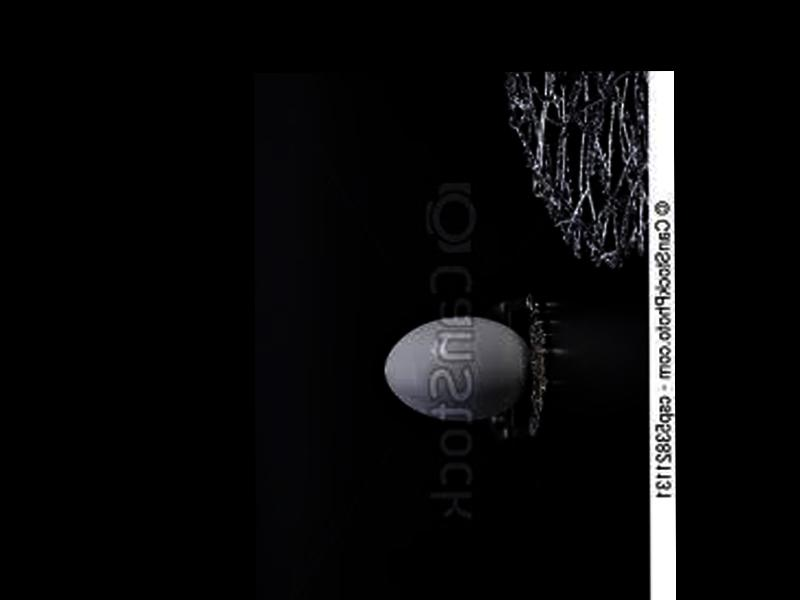Eggs: (384, 314, 531, 421)
